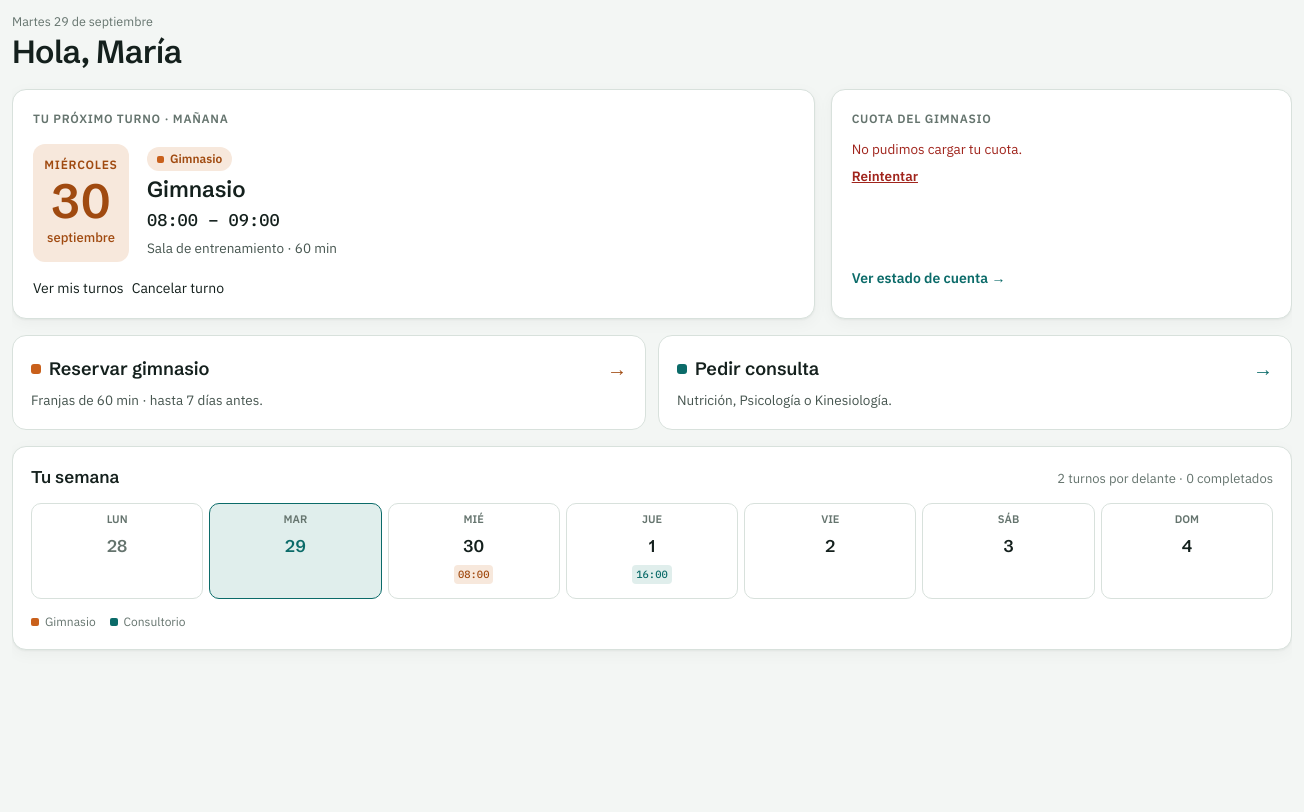
Scenario: InicioPage › si falla la cuota solo esa tarjeta lo informa y se puede reintentar
The image size is (1304, 812).
Expected: the text "No pudimos cargar tu cuota." is shown, [852,140,1022,159]
Expected: the text "Tu próximo turno · mañana" is shown, [33,111,228,126]
Click the button "Reintentar" at (885,177), box [852,167,918,187]
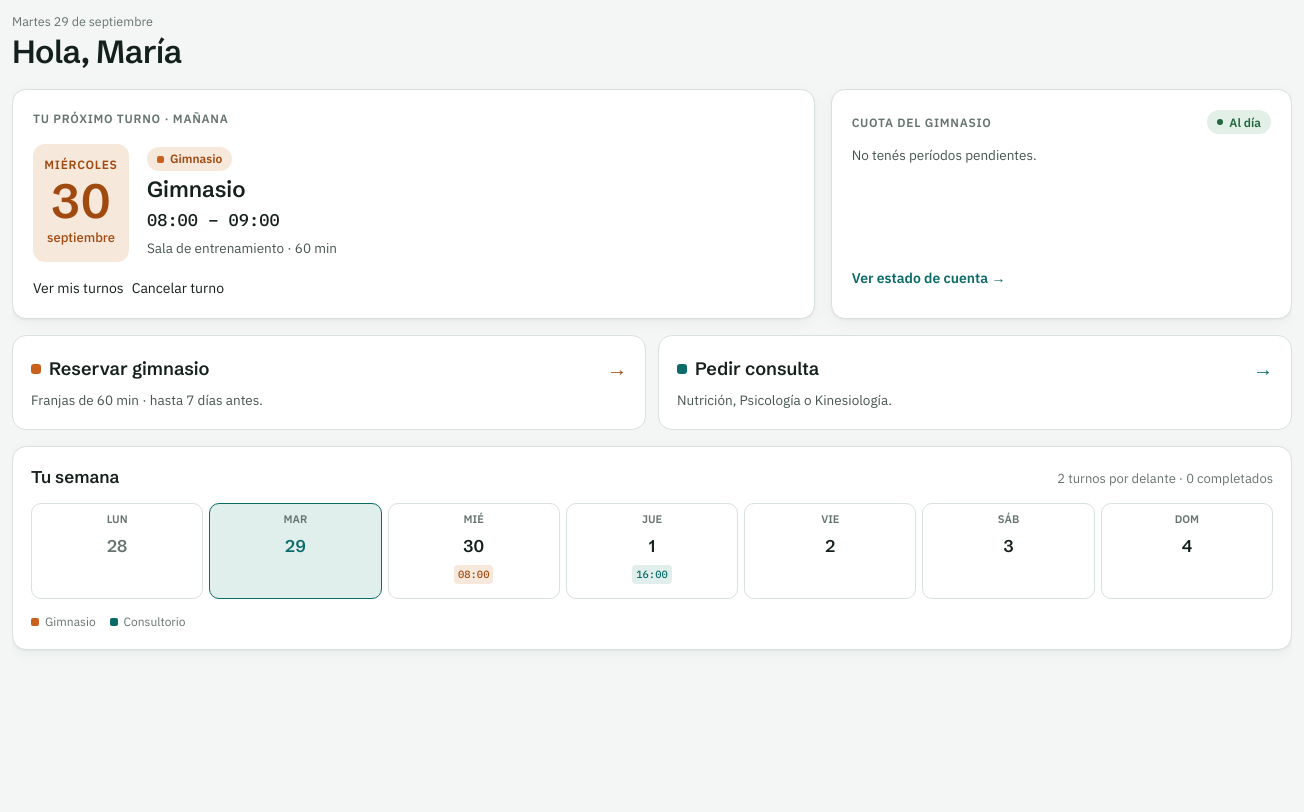
Now the text "Al día" is shown, box [1207,110,1271,134]
